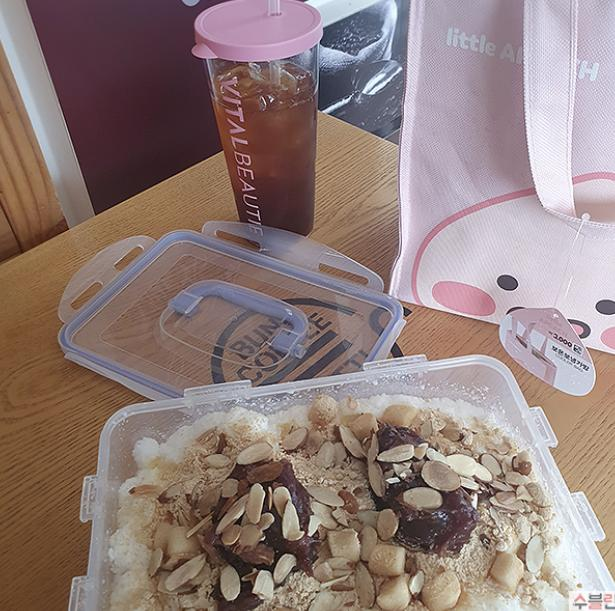Bottle: (192, 0, 322, 234)
Lunch Box: (58, 222, 614, 610)
